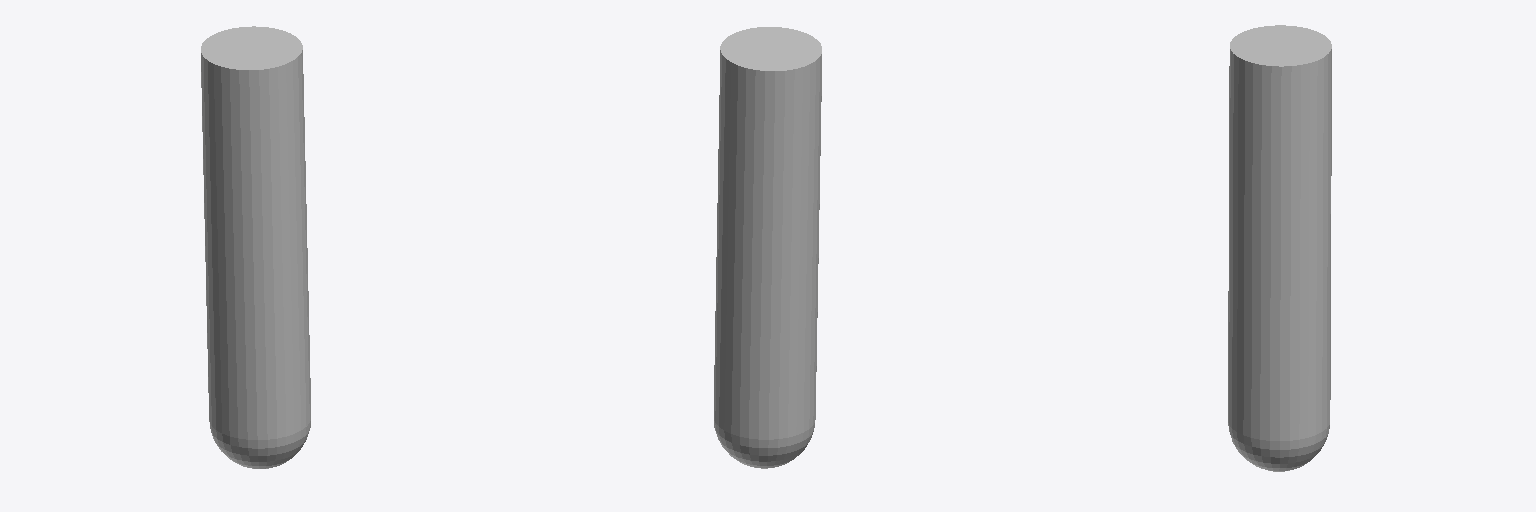
File: laser.obj
The picture shows the model from 3 angles: view 1: azimuth 30°, elevation 25°; view 2: azimuth 150°, elevation 25°; view 3: azimuth 270°, elevation 25°; orthographic projection.
Parts seen in each view (by area): view 1: Cylinder, Sphere; view 2: Cylinder, Sphere; view 3: Cylinder, Sphere.
Part boxes in pixels (x1,y1,x2,y2): Cylinder: (201,26,310,439); Sphere: (210,421,310,468); Cylinder: (714,27,821,439); Sphere: (714,421,814,468); Cylinder: (1228,25,1331,440); Sphere: (1228,423,1329,471).
Size of the model in its own units: 0.53 by 2.2 by 0.4959.